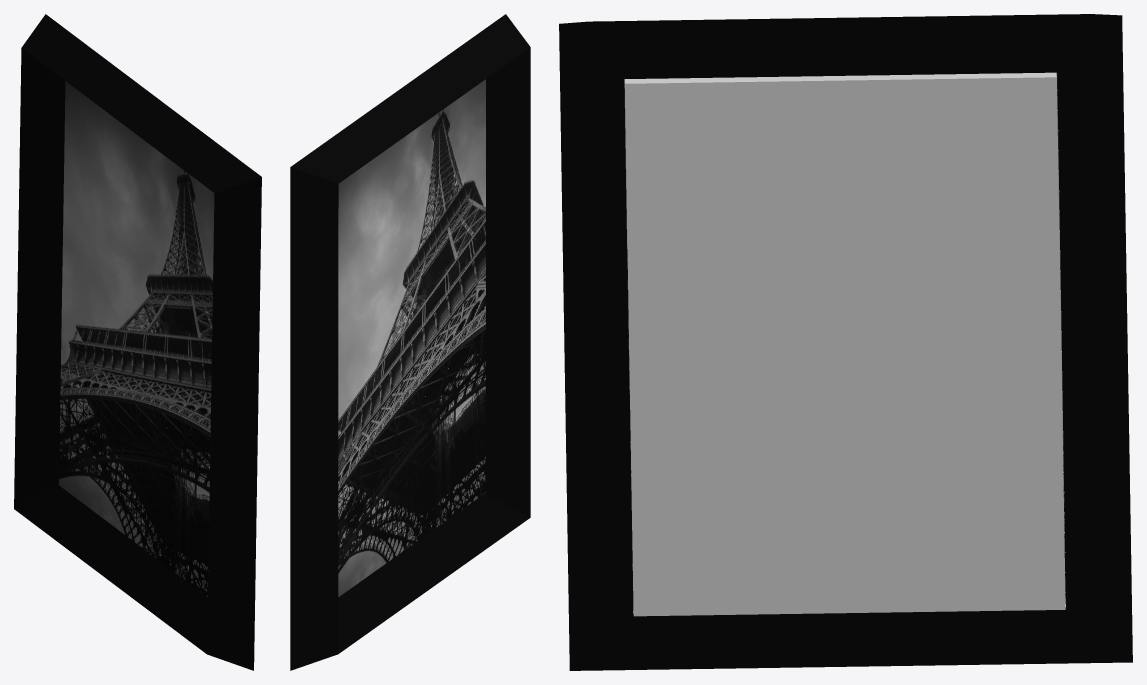
File: 11photo-frame.glb
3 renders of one model, left to right at view 1: azimuth 30°, elevation 25°; view 2: azimuth 150°, elevation 25°; view 3: azimuth 270°, elevation 25°, orthographic. The views are drawn at different scales.
Parts seen in each view (by area): view 1: Frame_Cube_001_Frame1, Frame_Cube_001_Frame_Photo1; view 2: Frame_Cube_001_Frame1, Frame_Cube_001_Frame_Photo1; view 3: Frame_Cube_001_Frame_Back1, Frame_Cube_001_Frame1, Frame_Cube_001_Frame_Photo1.
Boxes of the visible parts, x1,y1,x2,y2 form: Frame_Cube_001_Frame1: (14,14,261,670); Frame_Cube_001_Frame_Photo1: (59,81,214,596); Frame_Cube_001_Frame1: (290,14,530,670); Frame_Cube_001_Frame_Photo1: (338,79,485,596); Frame_Cube_001_Frame_Back1: (624,72,1065,616); Frame_Cube_001_Frame1: (559,14,1132,670); Frame_Cube_001_Frame_Photo1: (624,73,1065,610).
Size of the model in its own units: 0.0626 by 0.6533 by 0.517.
Materials: 3 (1 with a texture image).
